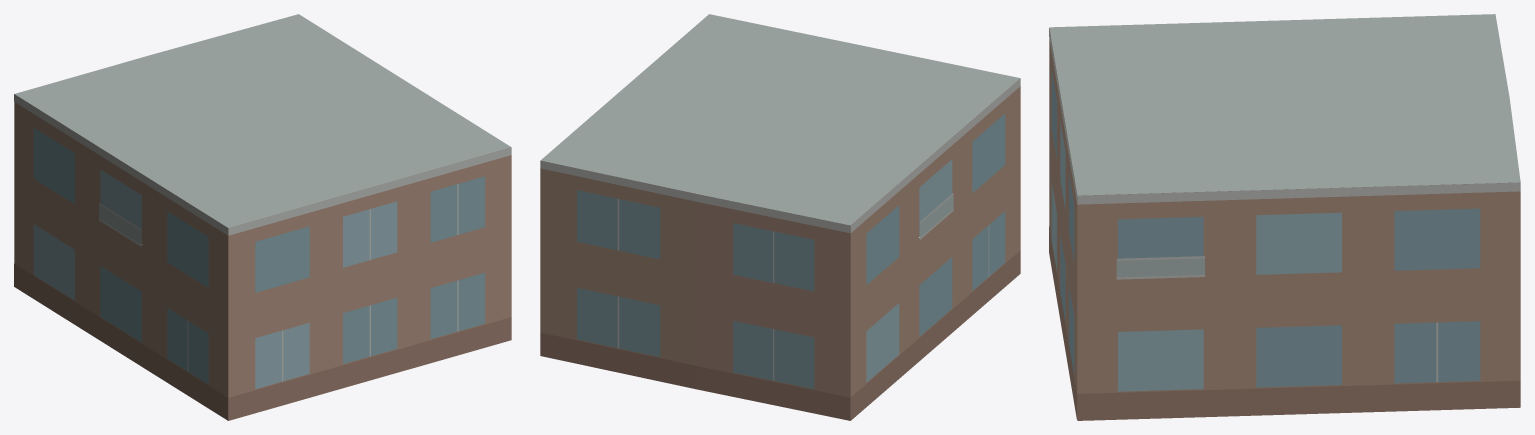
The model's file is survey-upis-32797981.glb.
The picture shows the model from 3 angles, left to right: view 1: azimuth 30°, elevation 25°; view 2: azimuth 150°, elevation 25°; view 3: azimuth 270°, elevation 25°; orthographic projection. The views are drawn at different scales.
Parts seen in each view (by area): view 1: survey-upis-32797981.tmp; view 2: survey-upis-32797981.tmp; view 3: survey-upis-32797981.tmp.
Boxes of the visible parts, bbox=[...] form: survey-upis-32797981.tmp: bbox=[14, 14, 511, 420]; survey-upis-32797981.tmp: bbox=[540, 14, 1020, 420]; survey-upis-32797981.tmp: bbox=[1049, 14, 1520, 420].
Size of the model in its own units: 10.56 by 6.1 by 11.58.
